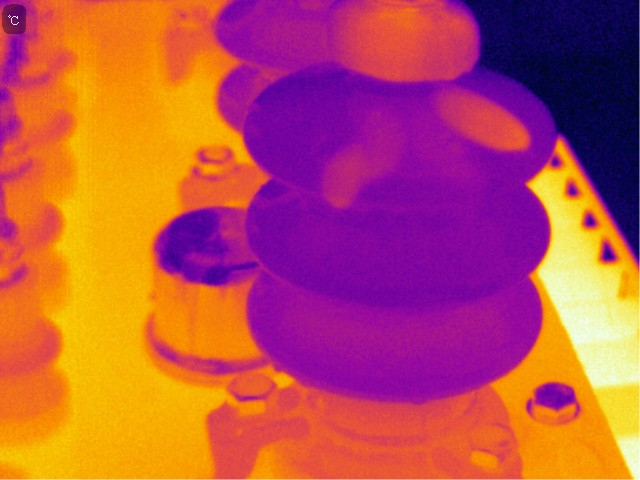Oil: (327, 1, 482, 84), (313, 108, 412, 211), (427, 87, 532, 155), (271, 359, 286, 374)
